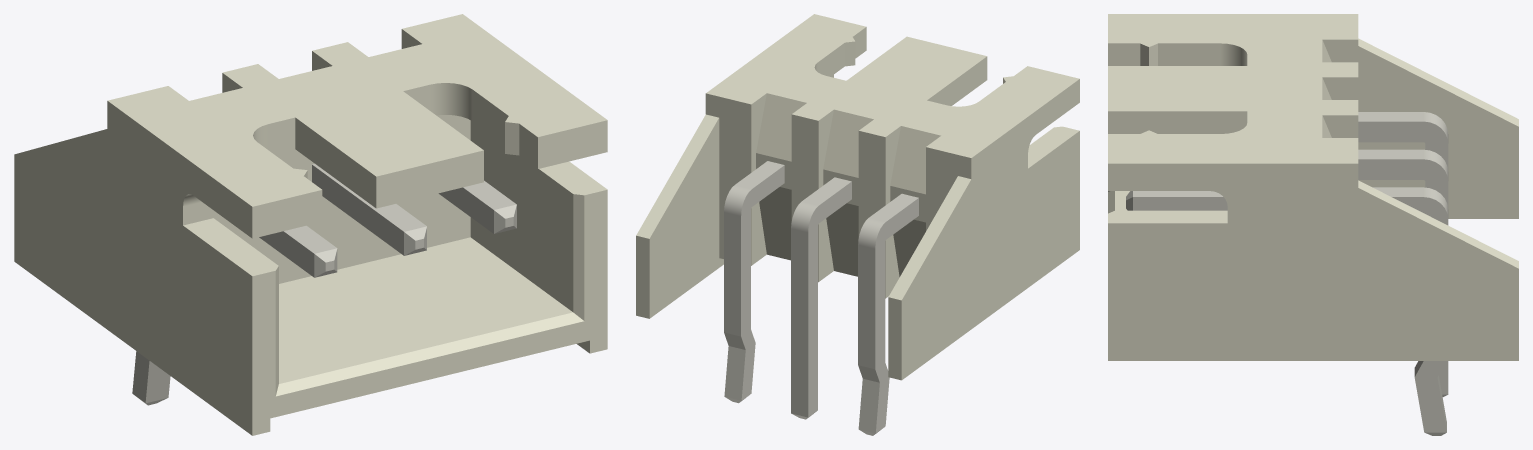
File: Connector_JST__JST_XH_S3B-XH-A_1x03_P2.50mm_Horizontal.glb
The picture shows the model from 3 angles, left to right: view 1: azimuth 30°, elevation 25°; view 2: azimuth 150°, elevation 25°; view 3: azimuth 270°, elevation 25°; orthographic projection. The views are drawn at different scales.
Parts seen in each view (by area): view 1: JST_S3B_XH_A; view 2: JST_S3B_XH_A; view 3: JST_S3B_XH_A.
Part boxes in pixels (x1,y1,x2,y2): JST_S3B_XH_A: (14,14,607,435); JST_S3B_XH_A: (636,14,1079,435); JST_S3B_XH_A: (1108,14,1518,435).
Bounding box in the file's own units: 0.0099 × 0.0095 × 0.0115.
